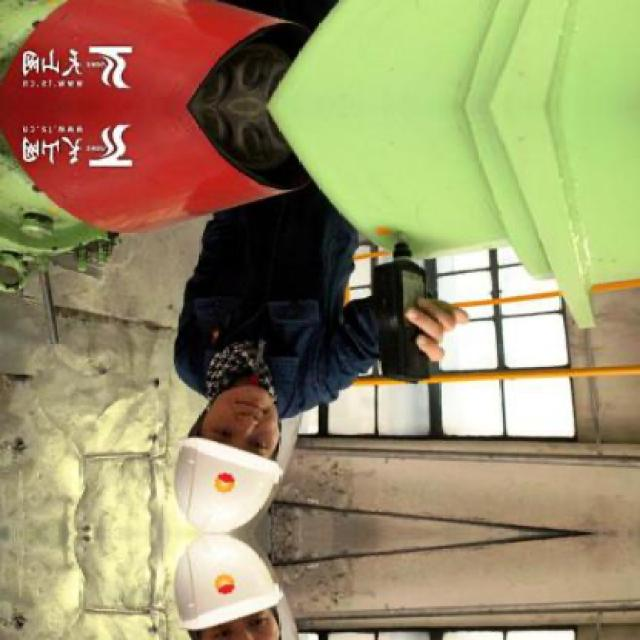con casco: (162, 347, 293, 541)
